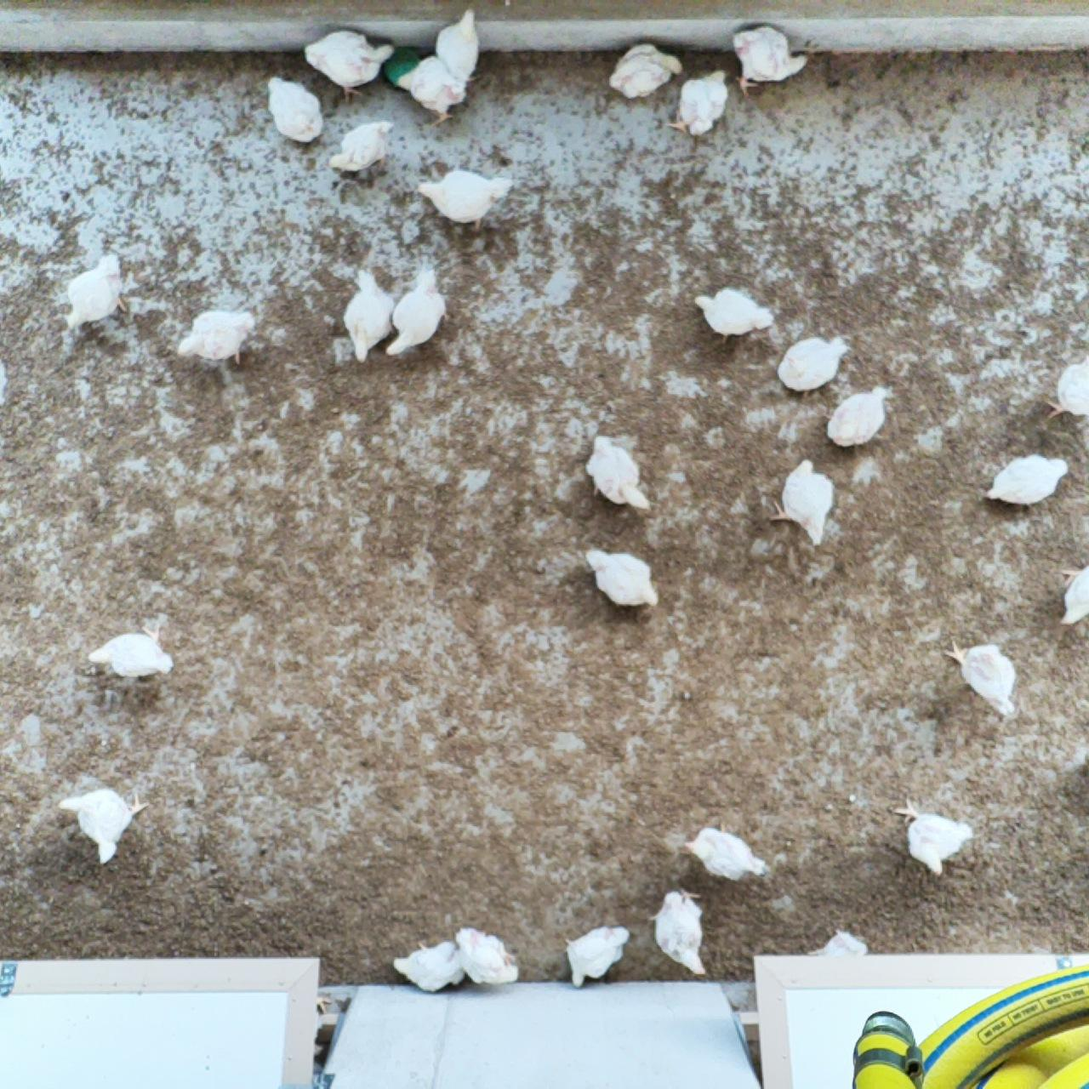chicken: (55, 779, 150, 869), (886, 793, 980, 881), (298, 23, 398, 104), (936, 635, 1027, 722), (412, 165, 516, 234), (765, 456, 842, 549), (382, 262, 452, 363), (581, 428, 655, 521), (83, 617, 181, 685), (63, 245, 133, 339), (728, 20, 810, 100), (643, 884, 712, 979), (339, 265, 403, 366), (975, 451, 1076, 513), (579, 544, 665, 616), (775, 328, 853, 404), (557, 916, 637, 990), (688, 284, 779, 348), (818, 378, 895, 453), (171, 304, 258, 370), (394, 53, 469, 128), (680, 824, 774, 883), (604, 39, 688, 103), (265, 73, 332, 150), (453, 920, 524, 991), (387, 935, 469, 996), (325, 113, 397, 181), (665, 68, 731, 138), (431, 4, 485, 85), (1035, 354, 1089, 422), (1055, 557, 1089, 628), (806, 925, 872, 961)
